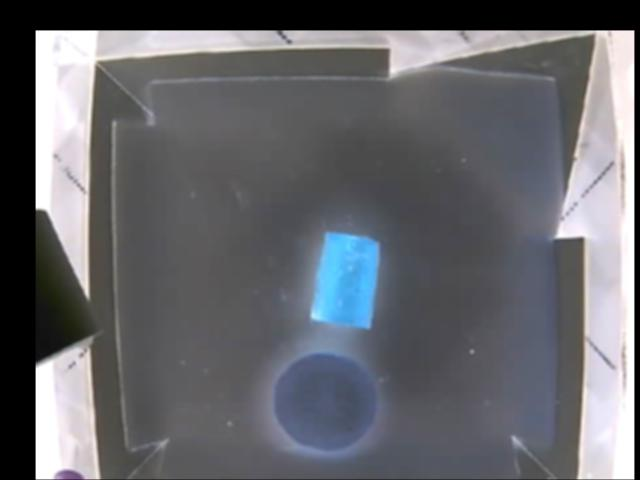Carrot: (310, 232, 381, 327)
China: (270, 352, 378, 450)
